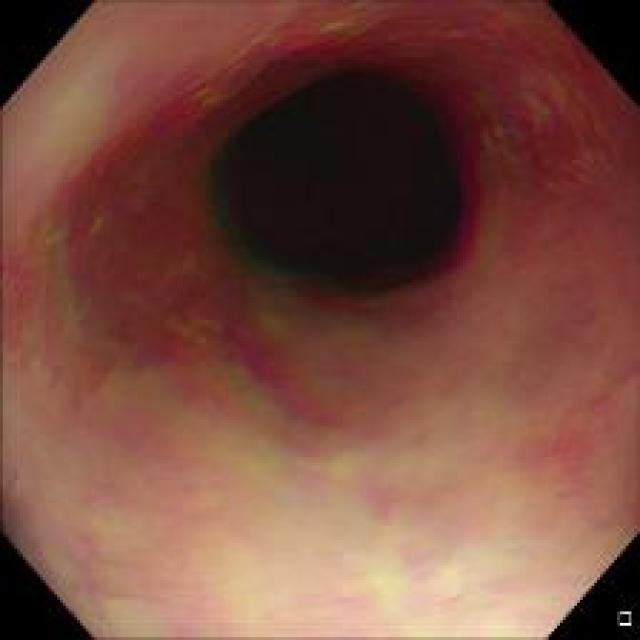color misalignment: (262, 262, 392, 311), (199, 130, 242, 264), (222, 241, 272, 302)
contrast: (209, 49, 475, 325)
